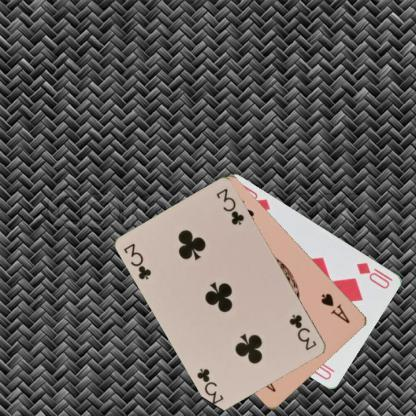10d: (354, 259, 392, 290)
3c: (121, 240, 153, 282), (286, 311, 318, 352)
As: (318, 290, 352, 324)
